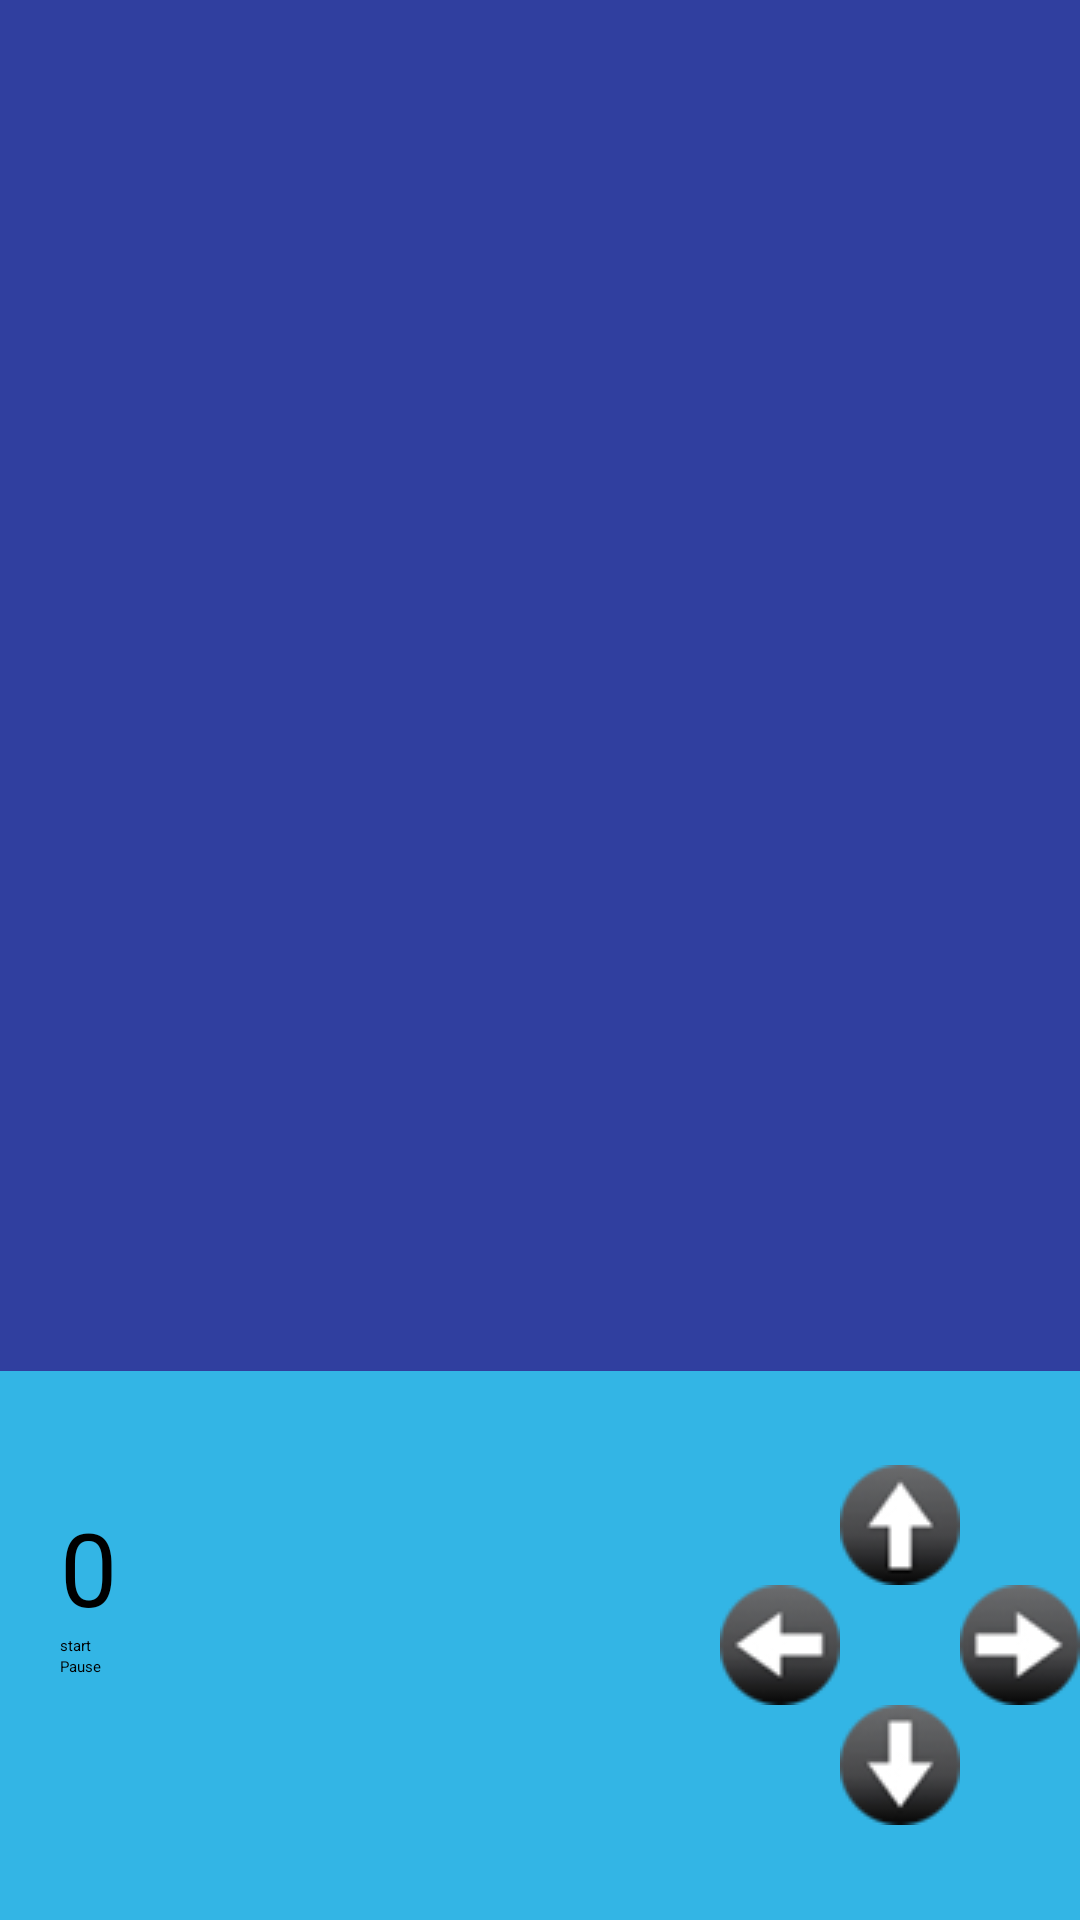

Where icons sit on this 1080w x 1920h app screen, as (x1, y1, x2, y2):
down arrow: (840, 1705, 960, 1825)
left arrow: (720, 1585, 840, 1705)
right arrow: (960, 1585, 1080, 1705)
up arrow: (840, 1465, 960, 1585)
